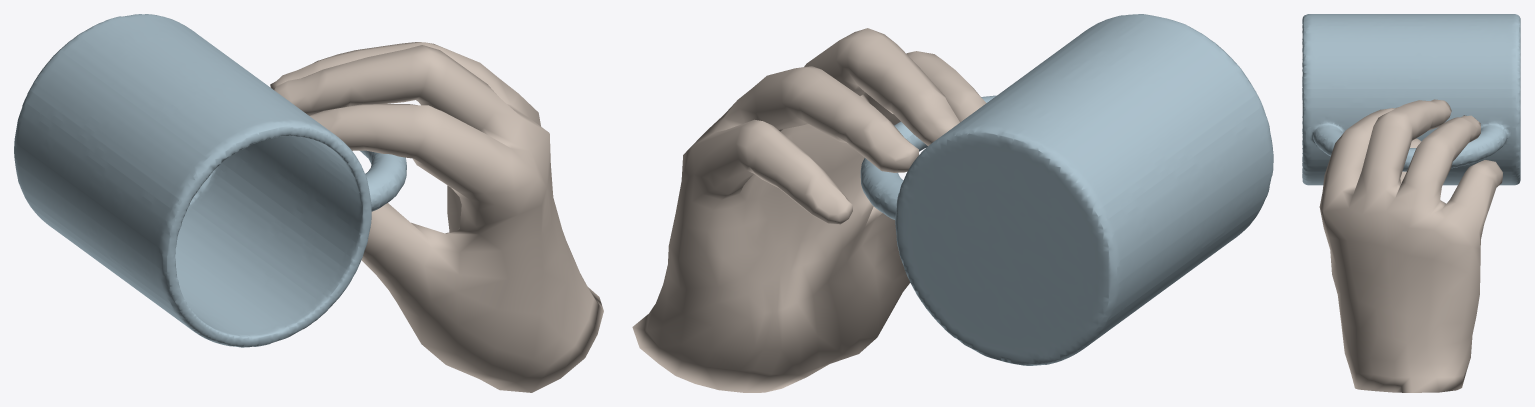
File: pred_33.glb
The picture shows the model from 3 angles, left to right: view 1: azimuth 30°, elevation 25°; view 2: azimuth 150°, elevation 25°; view 3: azimuth 270°, elevation 25°; orthographic projection. The views are drawn at different scales.
Bounding box in the file's own units: 0.2012 × 0.1408 × 0.105.
